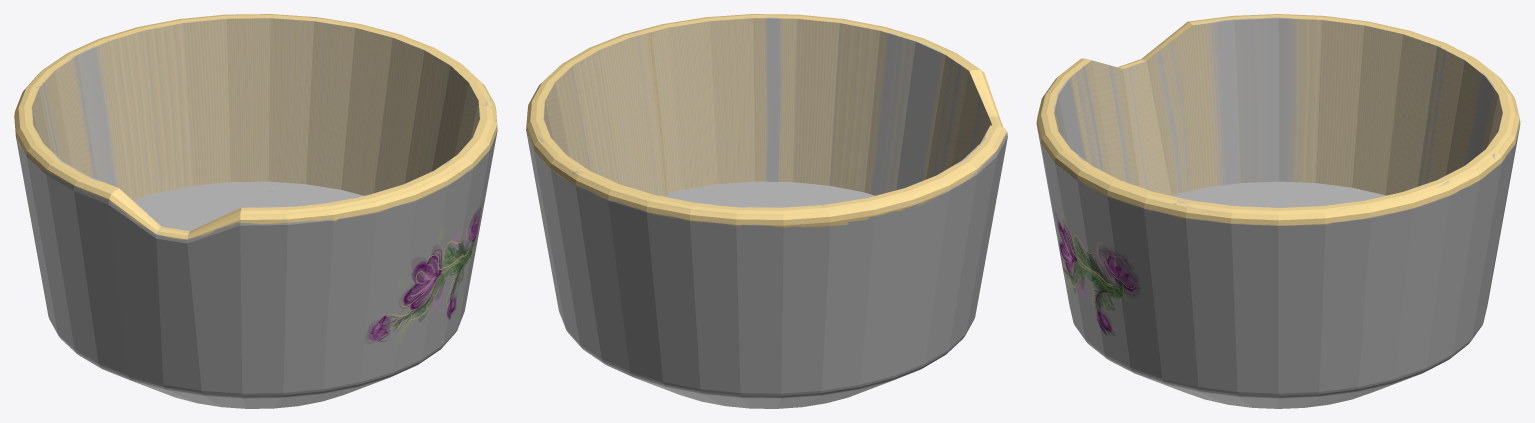
File: Sin título.glb
3 views of the same model, side by side, from view 1: azimuth 30°, elevation 25°; view 2: azimuth 150°, elevation 25°; view 3: azimuth 270°, elevation 25° (orthographic).
Parts seen in each view (by area): view 1: Cylinder.011; view 2: Cylinder.011; view 3: Cylinder.011.
Boxes of the visible parts, <box> form: Cylinder.011: <box>14,14,497,408</box>; Cylinder.011: <box>526,14,1007,408</box>; Cylinder.011: <box>1036,14,1520,408</box>.
Size of the model in its own units: 1.12 by 0.6118 by 1.12.
1 material, 1 textured.
